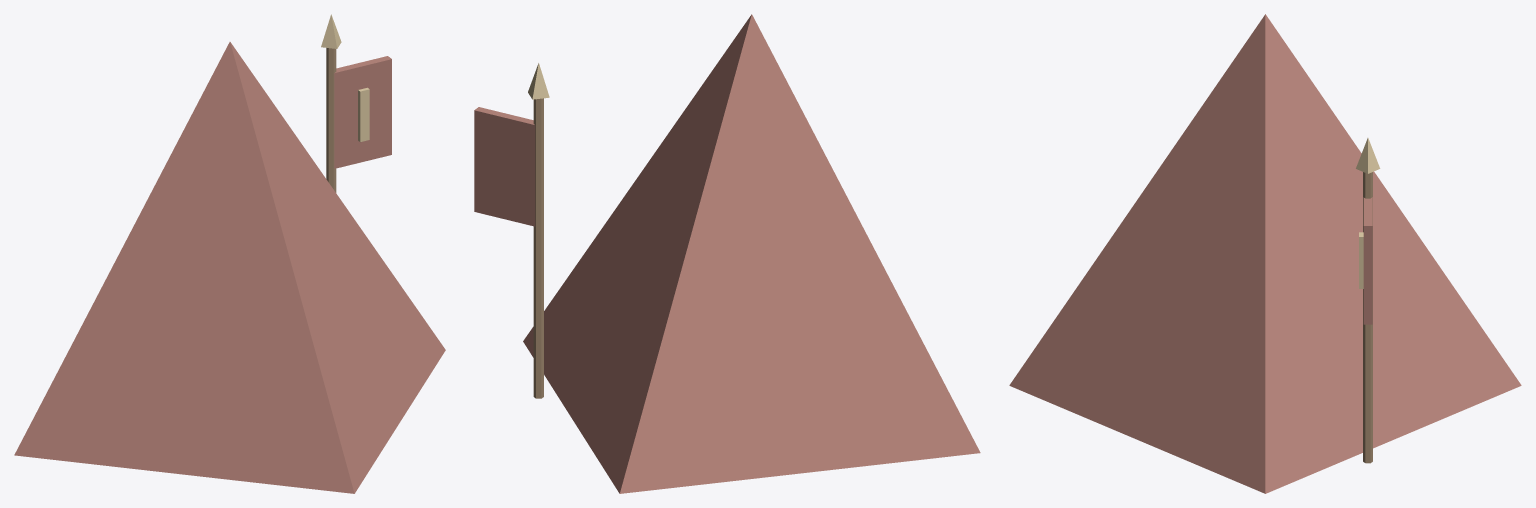
The model's file is orc_warcamp.glb.
3 renders of one model, left to right at view 1: azimuth 30°, elevation 25°; view 2: azimuth 150°, elevation 25°; view 3: azimuth 270°, elevation 25°, orthographic. The views are drawn at different scales.
Parts seen in each view (by area): view 1: orc_warcamp_MAT_red, orc_warcamp_MAT_wood, orc_warcamp_MAT_gold; view 2: orc_warcamp_MAT_red, orc_warcamp_MAT_wood; view 3: orc_warcamp_MAT_red, orc_warcamp_MAT_wood, orc_warcamp_MAT_gold.
Part boxes in pixels (bbox=[...]): orc_warcamp_MAT_red: bbox=[14, 42, 445, 493]; orc_warcamp_MAT_wood: bbox=[326, 48, 336, 192]; orc_warcamp_MAT_gold: bbox=[321, 14, 369, 141]; orc_warcamp_MAT_red: bbox=[474, 14, 980, 493]; orc_warcamp_MAT_wood: bbox=[533, 98, 543, 398]; orc_warcamp_MAT_red: bbox=[1009, 14, 1521, 493]; orc_warcamp_MAT_wood: bbox=[1363, 172, 1372, 463]; orc_warcamp_MAT_gold: bbox=[1356, 138, 1380, 288].
Size of the model in its own units: 2 by 1.6 by 2.
